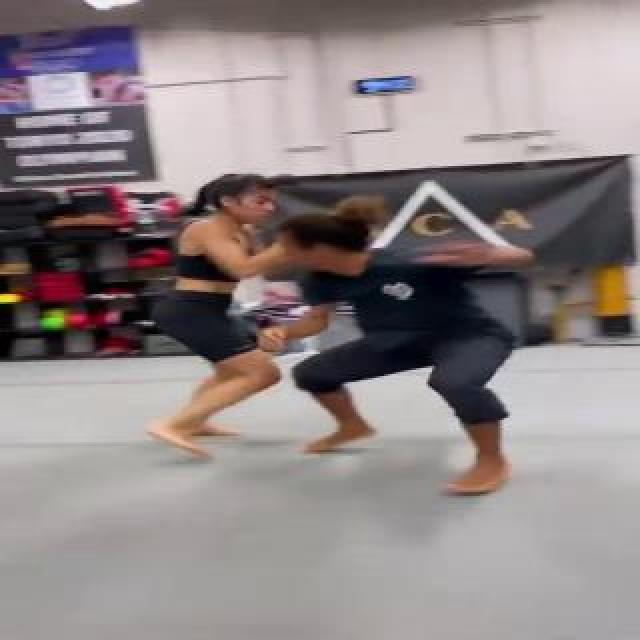fight: (151, 112, 527, 548)
